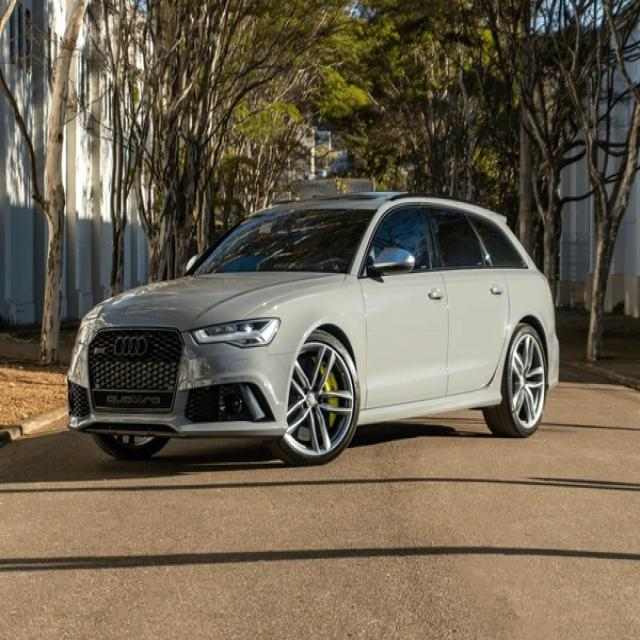audi: (114, 334, 151, 360)
